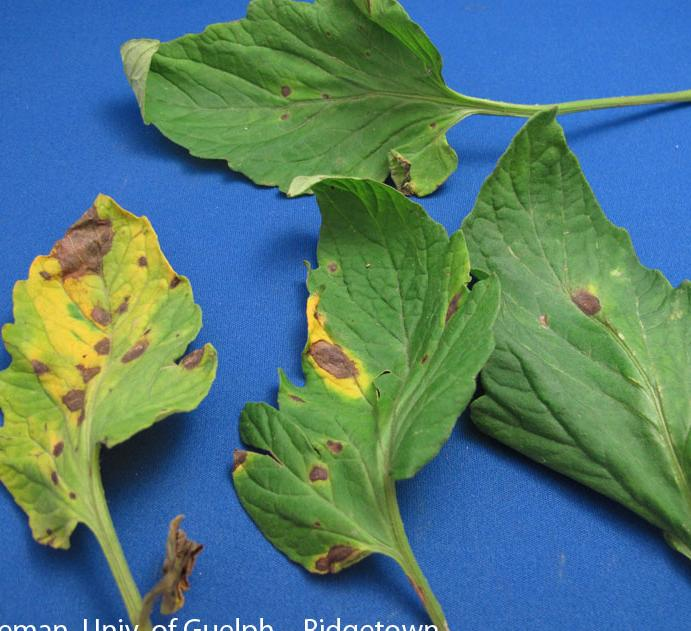Tomato Early blight leaf: (464, 105, 691, 624), (229, 174, 490, 596), (69, 0, 493, 209), (0, 183, 210, 581)
